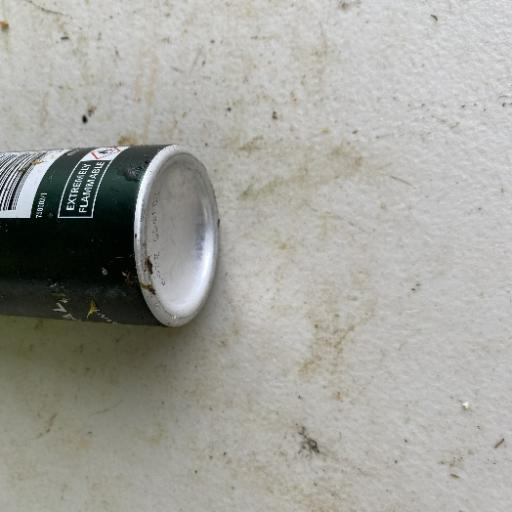Metal: (1, 140, 222, 329)
